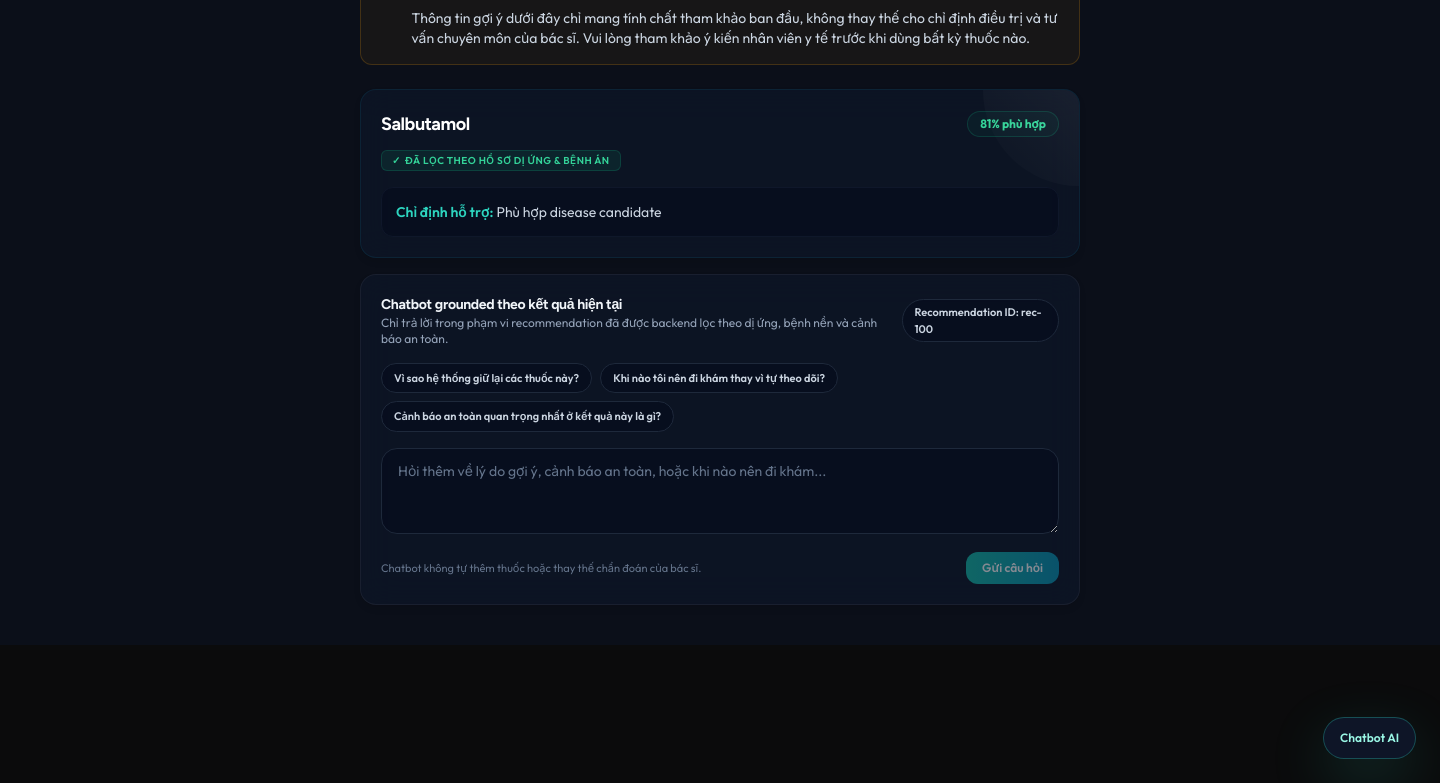
Test: submits grounded chatbot question from suggestions page
(page scrolled)
Click the button "Vì sao hệ thống giữ lại các thuốc này?" at {"x": 487, "y": 378}, box [381,363,592,393]
(page scrolled)
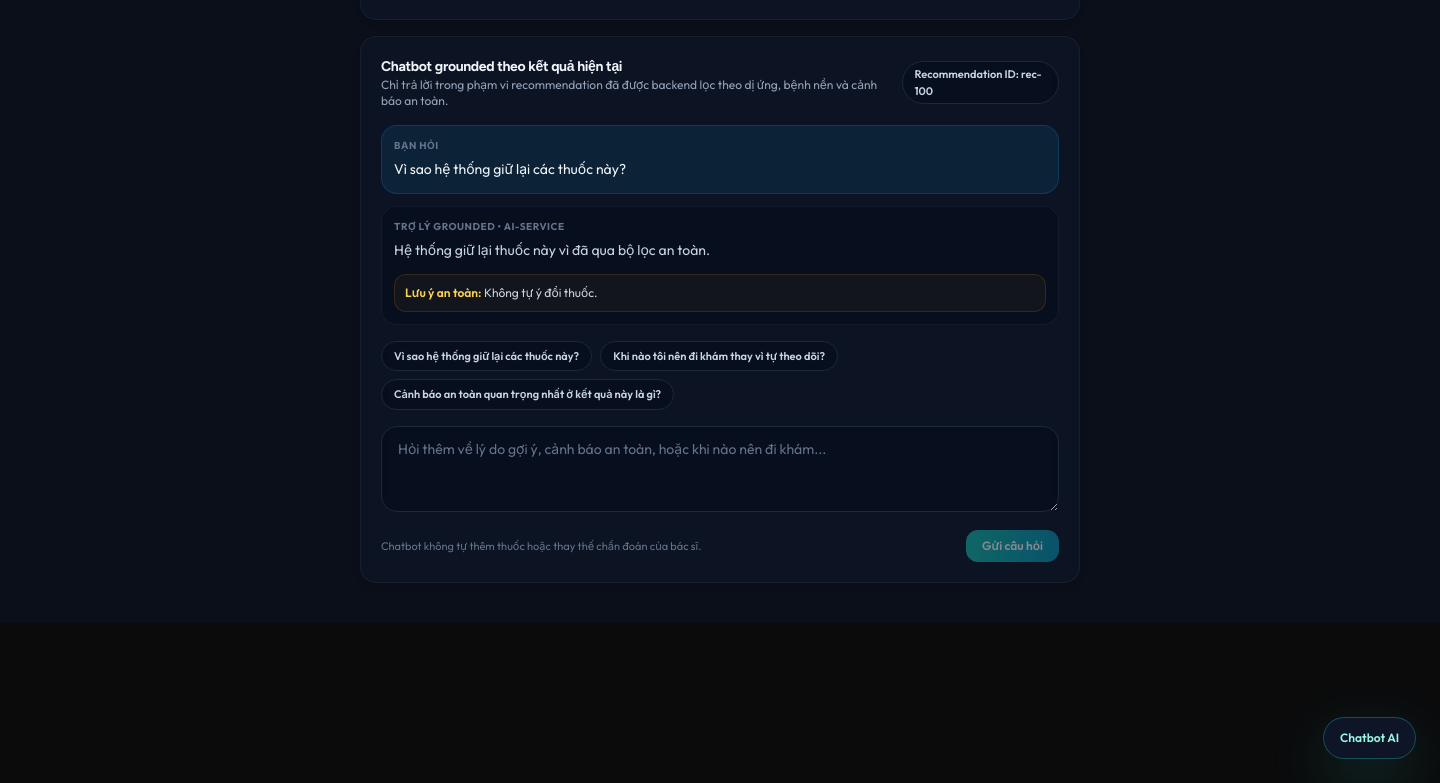
Now the text "Hệ thống giữ lại thuốc này vì đã qua bộ lọc an toàn." is shown, box [394,241,710,259]
